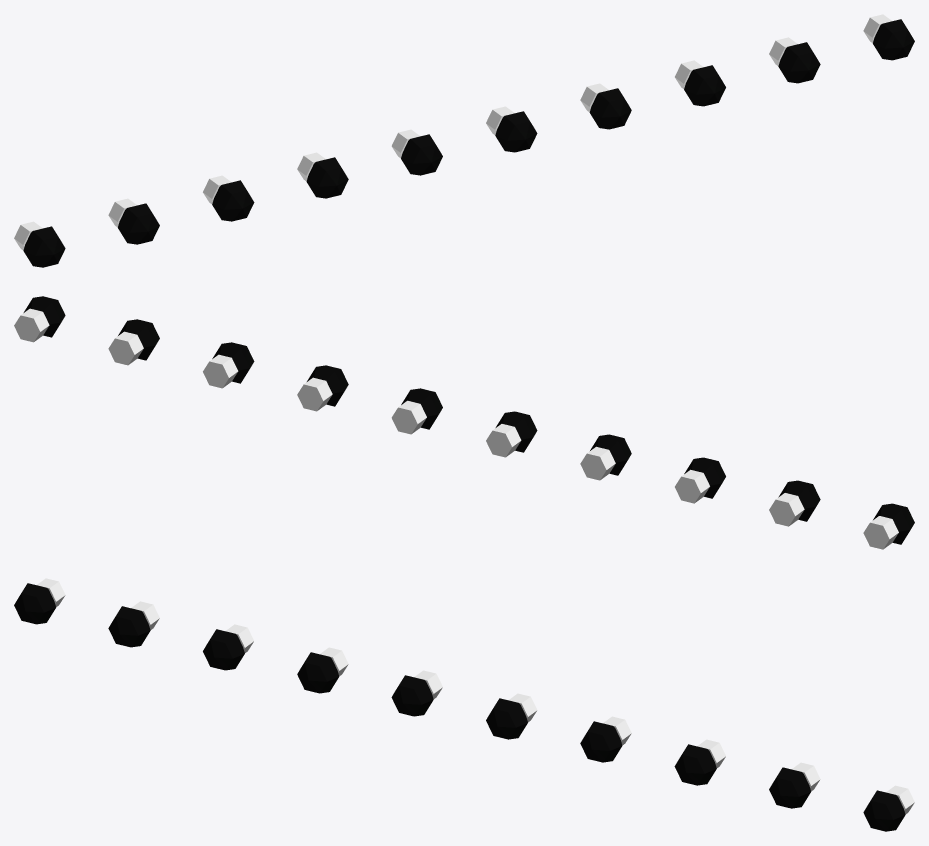
Rendered from SM_Prop_Casino_Neon_09.fbx.
3 renders of one model, top to bottom at view 1: azimuth 30°, elevation 25°; view 2: azimuth 150°, elevation 25°; view 3: azimuth 330°, elevation 25°, orthographic.
Parts seen in each view (by area): view 1: SM_Prop_Casino_Neon_09; view 2: SM_Prop_Casino_Neon_09; view 3: SM_Prop_Casino_Neon_09.
Part boxes in pixels (x1,y1,x2,y2): SM_Prop_Casino_Neon_09: (14, 14, 914, 267); SM_Prop_Casino_Neon_09: (14, 296, 914, 549); SM_Prop_Casino_Neon_09: (14, 578, 914, 831).
Bounding box in the file's own units: 470 × 17.84 × 24.64.
